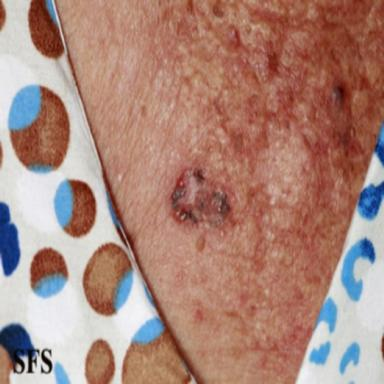basal-cell-carcinoma: (164, 157, 238, 231)
